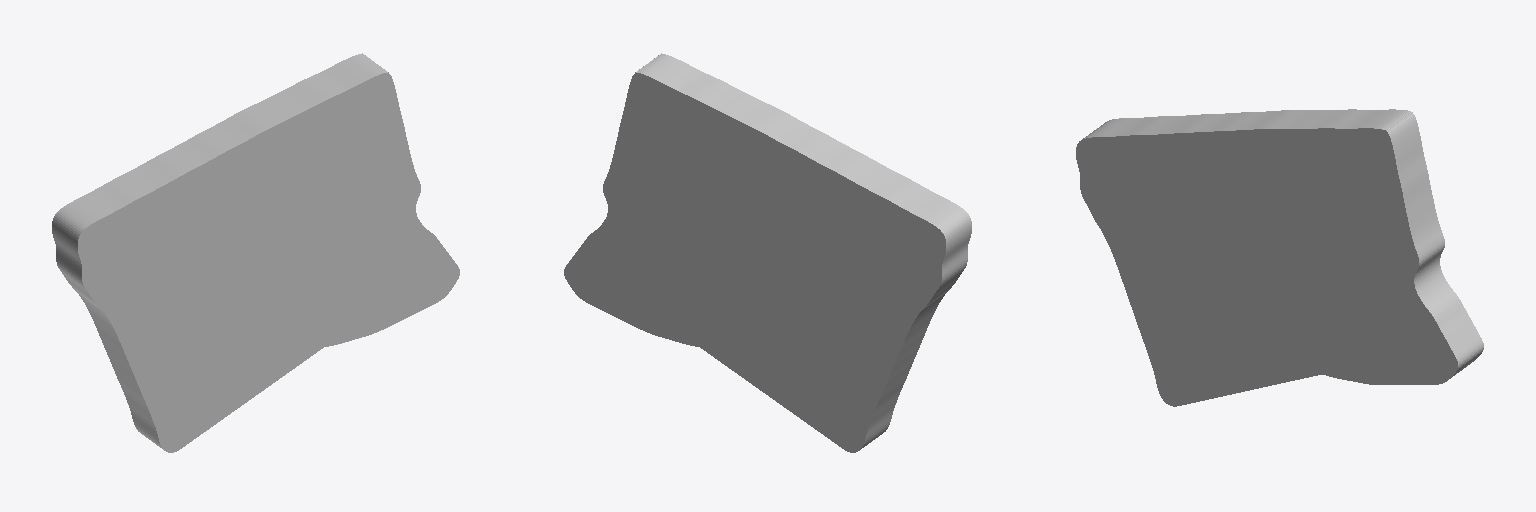
3 renders of one model, left to right at view 1: azimuth 30°, elevation 25°; view 2: azimuth 150°, elevation 25°; view 3: azimuth 330°, elevation 25°, orthographic.
Parts seen in each view (by area): view 1: 平面; view 2: 平面; view 3: 平面.
Boxes of the visible parts, x1=… form: 平面: x1=52, y1=53, x2=459, y2=452; 平面: x1=564, y1=53, x2=971, y2=452; 平面: x1=1076, y1=109, x2=1483, y2=406.
Bounding box in the file's own units: 1.71 × 1.4 × 0.2.